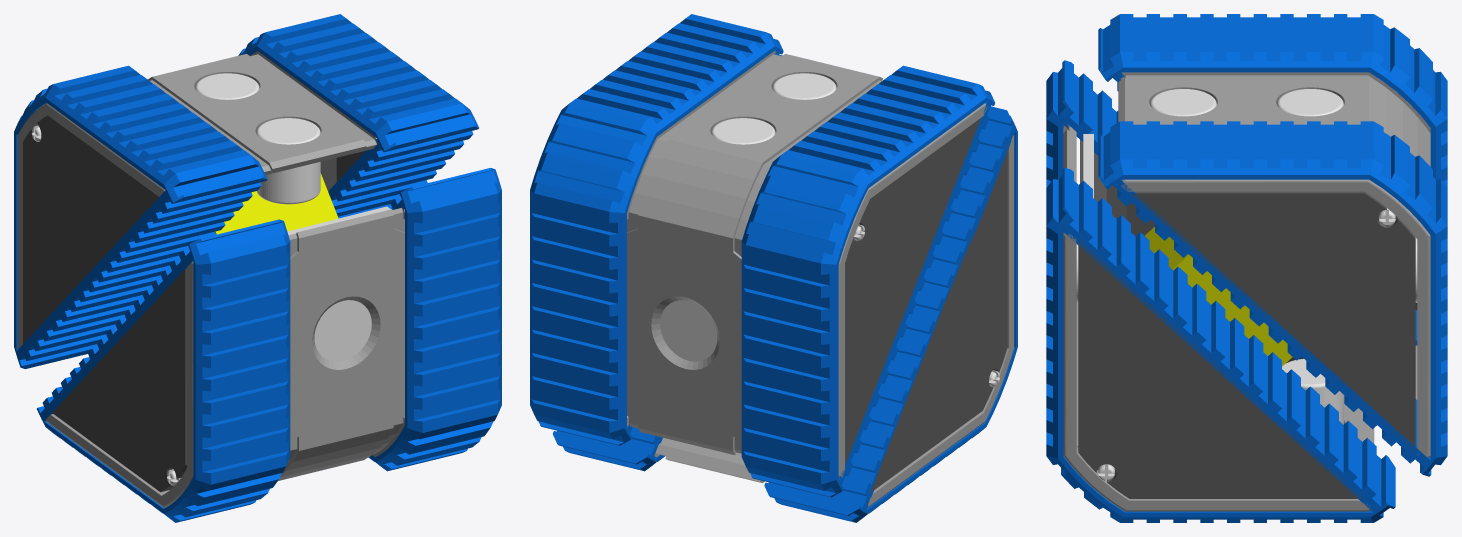
3 views of the same model, side by side, from view 1: azimuth 30°, elevation 25°; view 2: azimuth 150°, elevation 25°; view 3: azimuth 270°, elevation 25° (orthographic). The views are drawn at different scales.
Visible parts, largest first — view 1: CUBEEXV - ExternoX-1, CUBEEXV - TampaX-4, CUBEEXV - Esteira-2, CUBEEXV - Esteira-3, CUBEEXV - Esteira-4, CUBEEXV - Esteira-1, CUBEEXV - Ima-2, CUBEEXV - Fonte-2, CUBEEXV - Led-2, CUBEEXV - Ima-1, CUBEEXV - TampaX-2; view 2: CUBEEXV - ExternoX-1, CUBEEXV - Esteira-3, CUBEEXV - Esteira-1, CUBEEXV - TampaX-4, CUBEEXV - Esteira-2, CUBEEXV - Led-1, CUBEEXV - Esteira-4, CUBEEXV - Ima-1, CUBEEXV - Ima-2; view 3: CUBEEXV - TampaX-2, CUBEEXV - Esteira-4, CUBEEXV - Esteira-1, CUBEEXV - ExternoX-1, CUBEEXV - Esteira-3, CUBEEXV - Esteira-2, CUBEEXV - Fonte-1, CUBEEXV - Ima-1, CUBEEXV - Ima-2, CUBEEXV - TampaX-4, CUBEEXV - Ima-11, CUBEEXV - placa-3.
Boxes of the visible parts, <box> form: CUBEEXV - ExternoX-1: <box>17,51,404,507</box>; CUBEEXV - TampaX-4: <box>23,115,186,492</box>; CUBEEXV - Esteira-2: <box>37,219,290,522</box>; CUBEEXV - Esteira-3: <box>14,65,267,368</box>; CUBEEXV - Esteira-4: <box>368,168,501,471</box>; CUBEEXV - Esteira-1: <box>238,14,478,218</box>; CUBEEXV - Ima-2: <box>256,118,320,204</box>; CUBEEXV - Fonte-2: <box>215,173,338,234</box>; CUBEEXV - Led-2: <box>314,300,371,361</box>; CUBEEXV - Ima-1: <box>195,73,259,99</box>; CUBEEXV - TampaX-2: <box>320,150,365,191</box>; CUBEEXV - ExternoX-1: <box>627,51,1014,507</box>; CUBEEXV - Esteira-3: <box>741,65,994,497</box>; CUBEEXV - Esteira-1: <box>530,14,783,445</box>; CUBEEXV - TampaX-4: <box>845,117,1007,492</box>; CUBEEXV - Esteira-2: <box>764,106,1017,522</box>; CUBEEXV - Led-1: <box>660,300,717,361</box>; CUBEEXV - Esteira-4: <box>553,54,782,471</box>; CUBEEXV - Ima-1: <box>711,118,775,144</box>; CUBEEXV - Ima-2: <box>772,73,836,99</box>; CUBEEXV - TampaX-2: <box>1078,191,1415,498</box>; CUBEEXV - Esteira-4: <box>1046,167,1395,522</box>; CUBEEXV - Esteira-1: <box>1098,121,1447,476</box>; CUBEEXV - ExternoX-1: <box>1063,72,1430,511</box>; CUBEEXV - Esteira-3: <box>1098,14,1447,345</box>; CUBEEXV - Esteira-2: <box>1046,60,1118,187</box>; CUBEEXV - Fonte-1: <box>1145,227,1292,366</box>; CUBEEXV - Ima-1: <box>1277,89,1343,116</box>; CUBEEXV - Ima-2: <box>1150,89,1216,116</box>; CUBEEXV - TampaX-4: <box>1080,140,1417,362</box>; CUBEEXV - Ima-11: <box>1282,358,1343,424</box>; CUBEEXV - placa-3: <box>1083,134,1093,198</box>.
Bounding box in the file's own units: 56 × 60 × 60.
